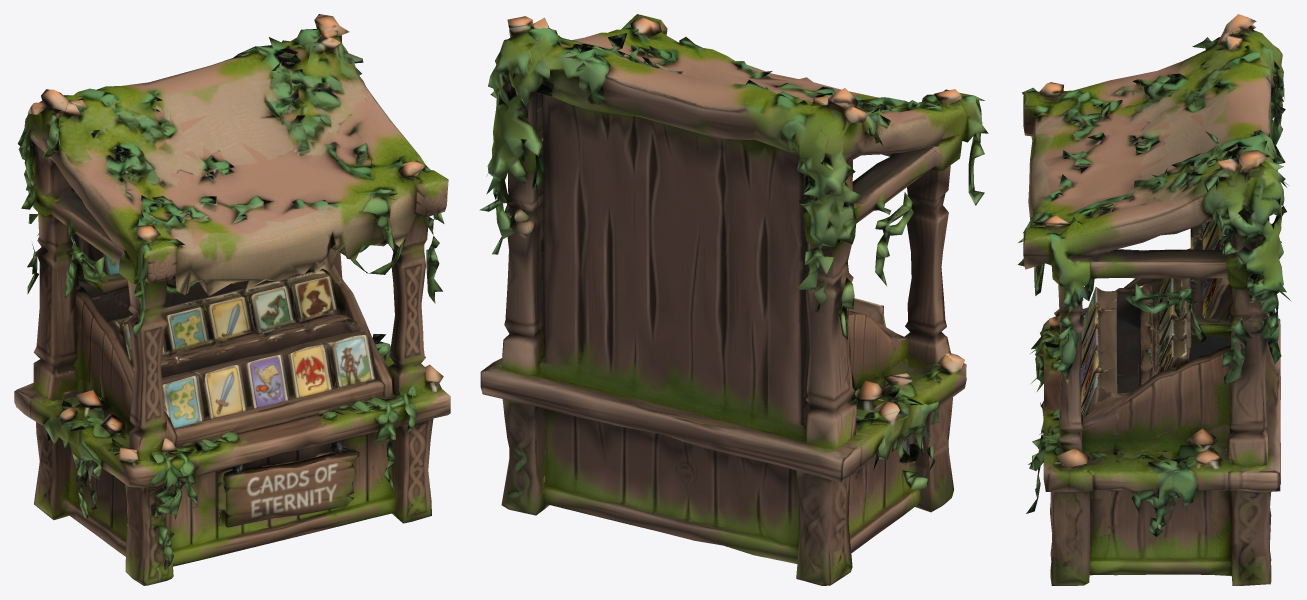
Rendered from merchant.glb.
The picture shows the model from 3 angles, left to right: view 1: azimuth 30°, elevation 25°; view 2: azimuth 150°, elevation 25°; view 3: azimuth 270°, elevation 25°; orthographic projection. The views are drawn at different scales.
Visible parts, largest first — view 1: Mesh_0; view 2: Mesh_0; view 3: Mesh_0.
Part boxes in pixels (x1,y1,x2,y2): Mesh_0: (14, 14, 450, 585); Mesh_0: (479, 14, 988, 585); Mesh_0: (1018, 14, 1291, 585).
Bounding box in the file's own units: 1.56 × 1.92 × 1.11.
Materials: 1 (1 with a texture image).
